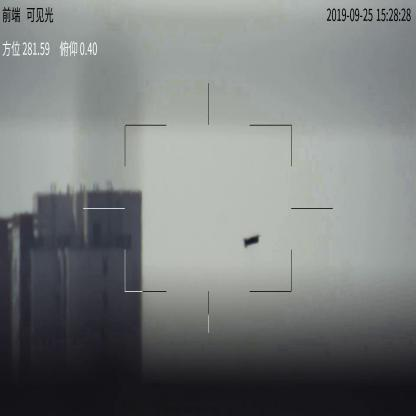uav: (240, 235, 258, 246)
